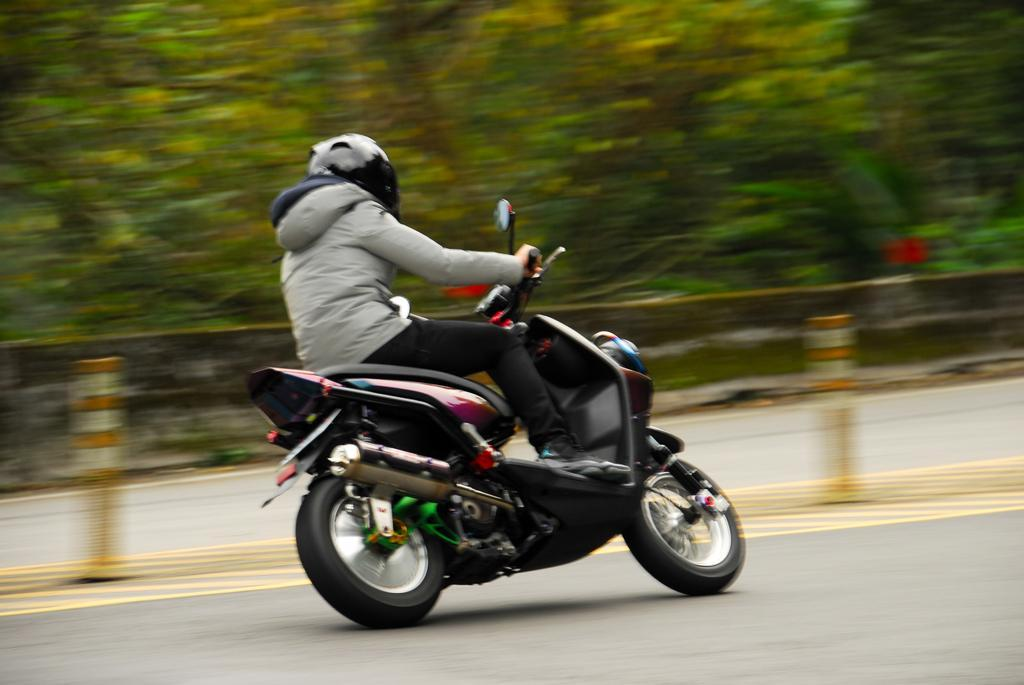helmet: (306, 130, 402, 224)
